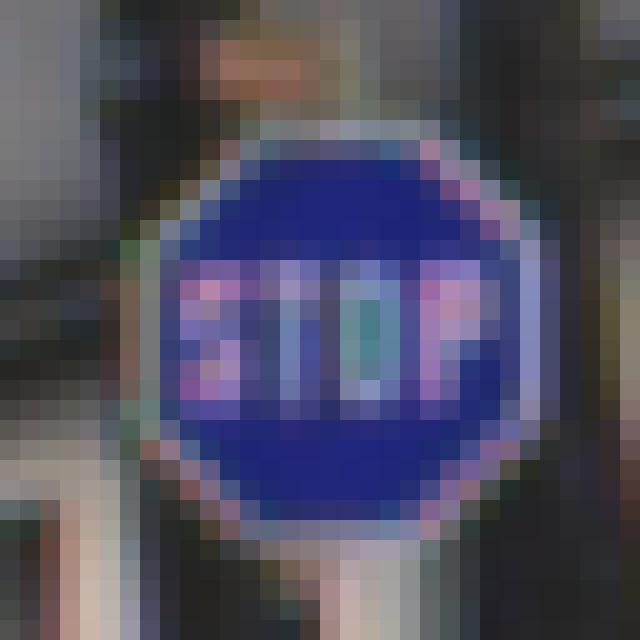STOP: (162, 140, 534, 520)
